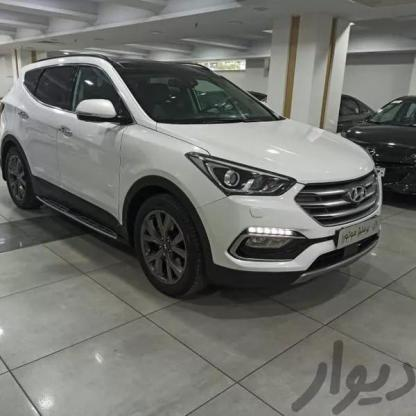Car: (0, 52, 393, 293), (337, 82, 416, 215)
